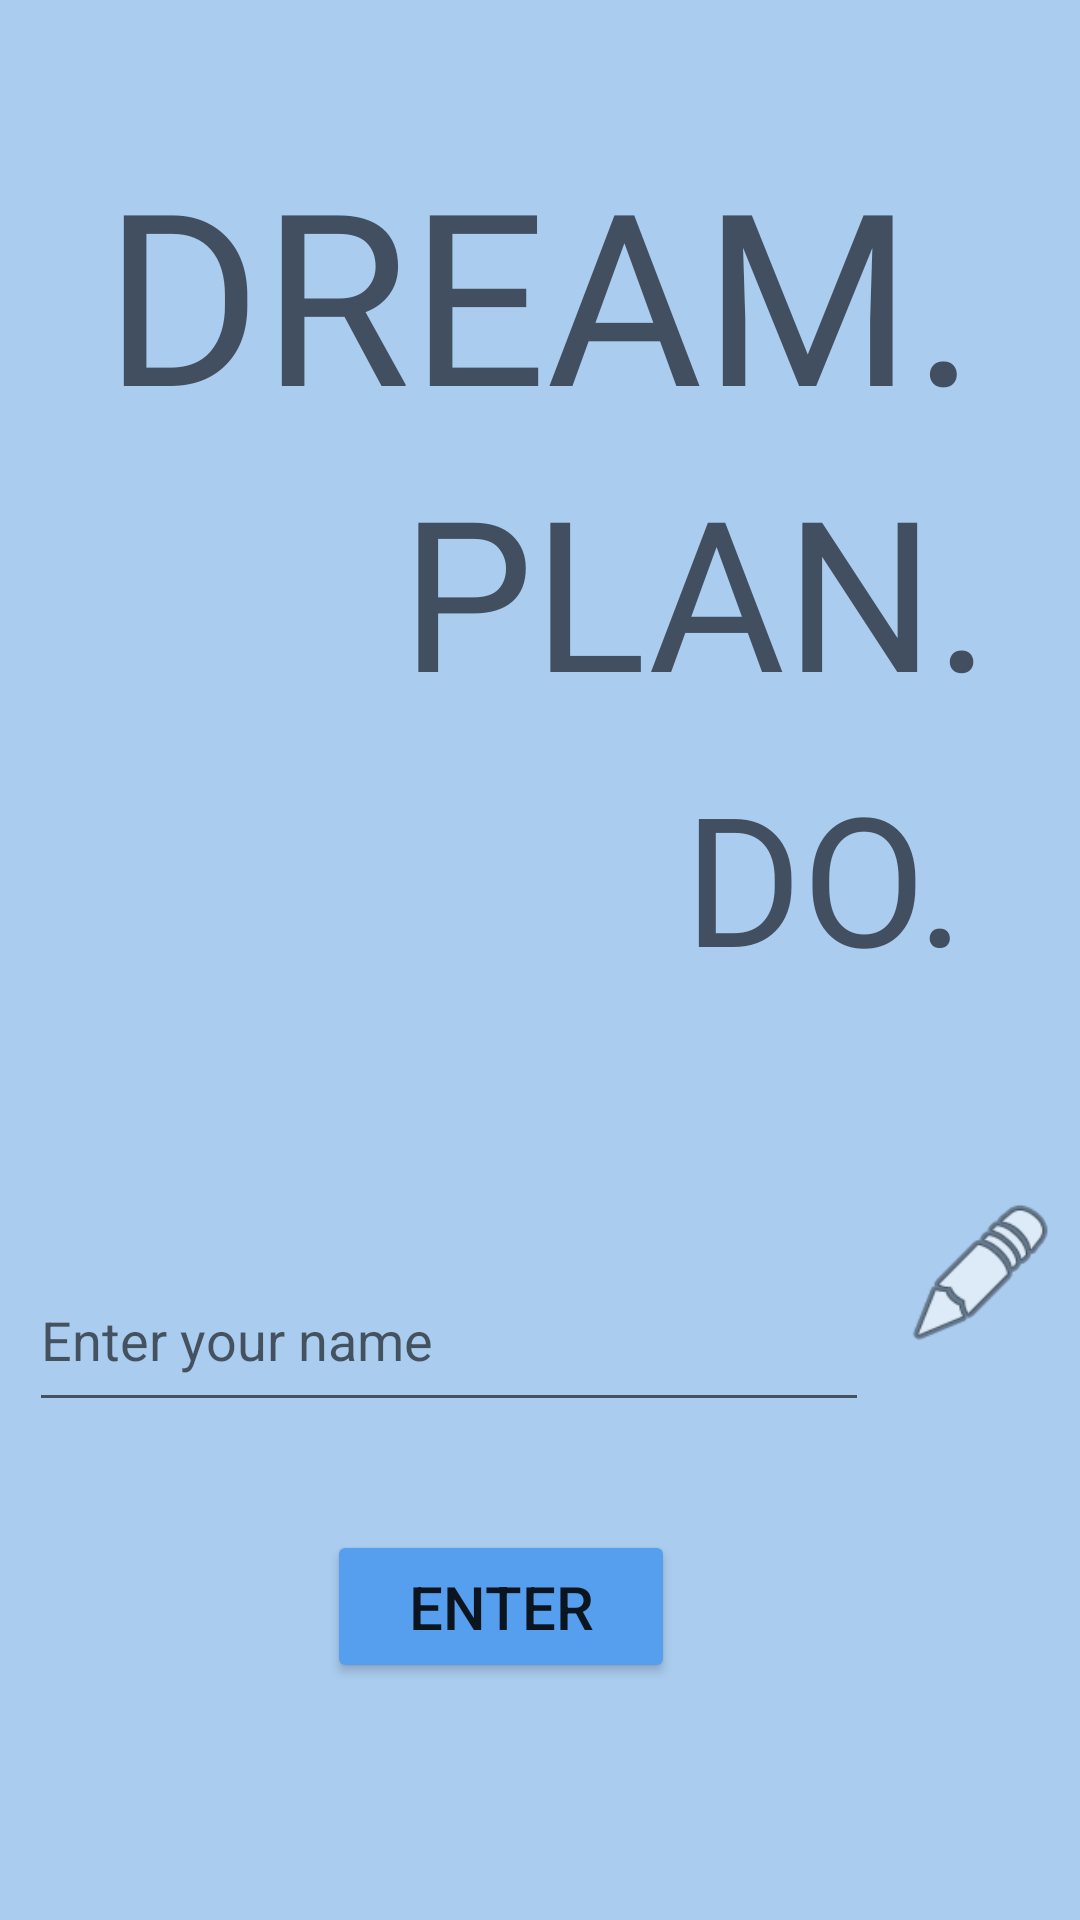

Named icons in this screenshot (1080x1920) and their bounding boxes, Rect(x1, y1, x2, y2):
edit: Rect(913, 1205, 1048, 1340)
